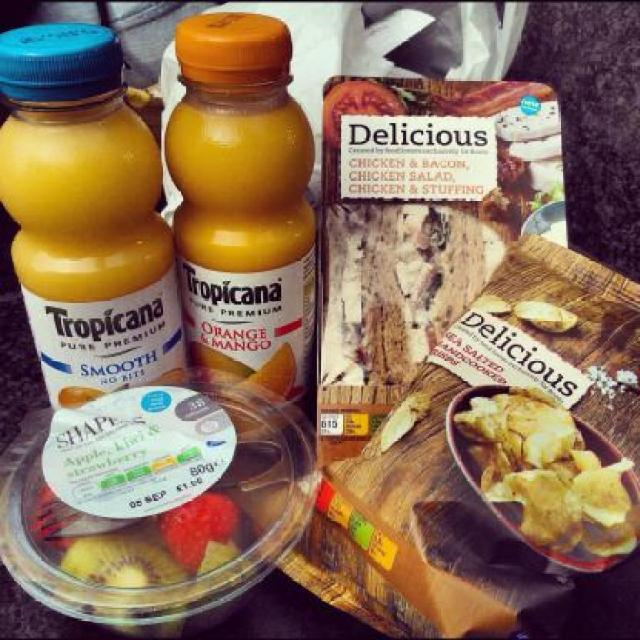Strawberry: (144, 492, 226, 570), (8, 483, 92, 559)
